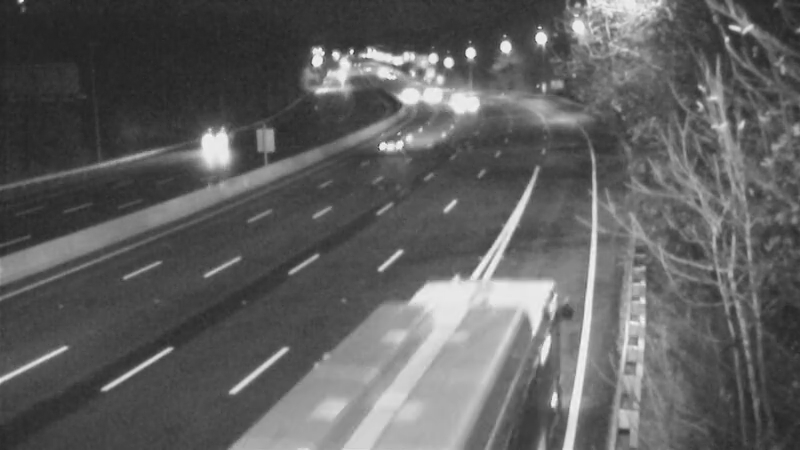vehicle: (343, 331, 453, 441), (365, 50, 415, 100), (403, 67, 453, 117), (379, 72, 429, 122), (430, 68, 480, 118), (435, 81, 485, 131), (373, 114, 423, 164), (184, 119, 234, 169)
